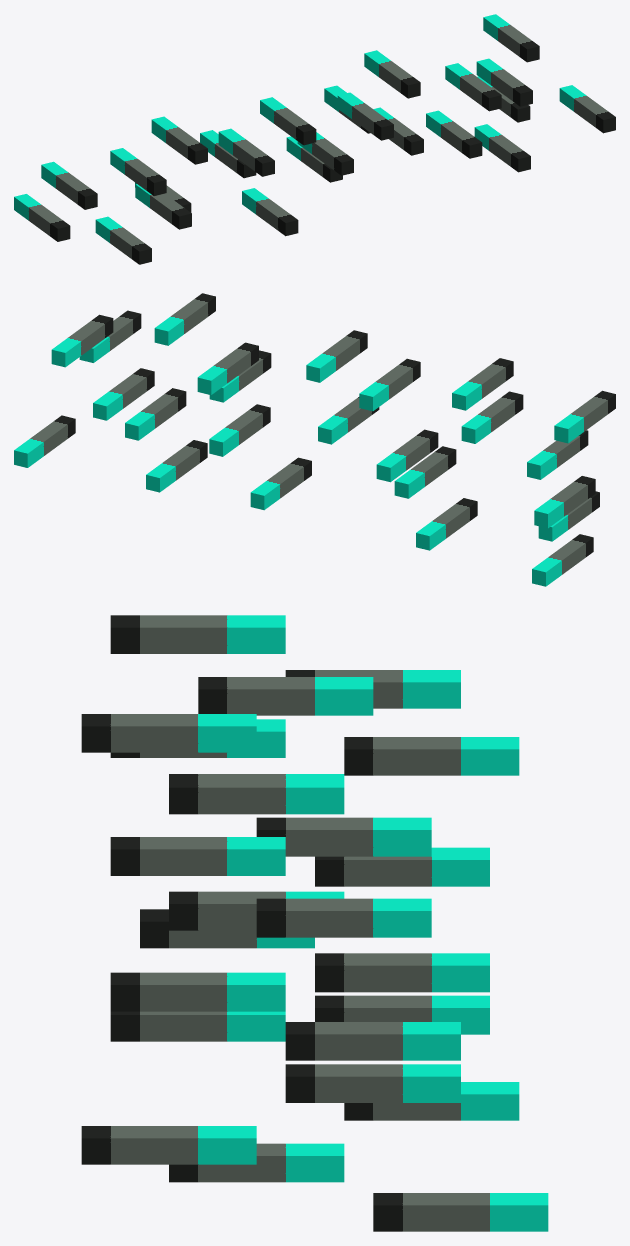
Rendered from ShotgunBullets-New.fbx.
3 views of the same model, one above another, from view 1: azimuth 30°, elevation 25°; view 2: azimuth 150°, elevation 25°; view 3: azimuth 270°, elevation 25° (orthographic). The views are drawn at different scales.
Visible parts, largest first — view 1: transform1; view 2: transform1; view 3: transform1.
Part boxes in pixels (left/top/right/bottom): transform1: left=14, top=14, right=615, bottom=264; transform1: left=14, top=293, right=615, bottom=586; transform1: left=81, top=615, right=548, bottom=1231.
Size of the model in its own units: 39 by 7 by 16.
